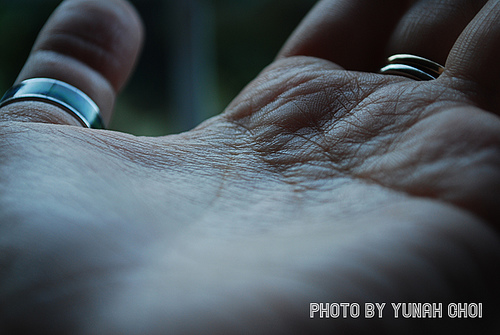palm: (75, 75, 471, 318)
